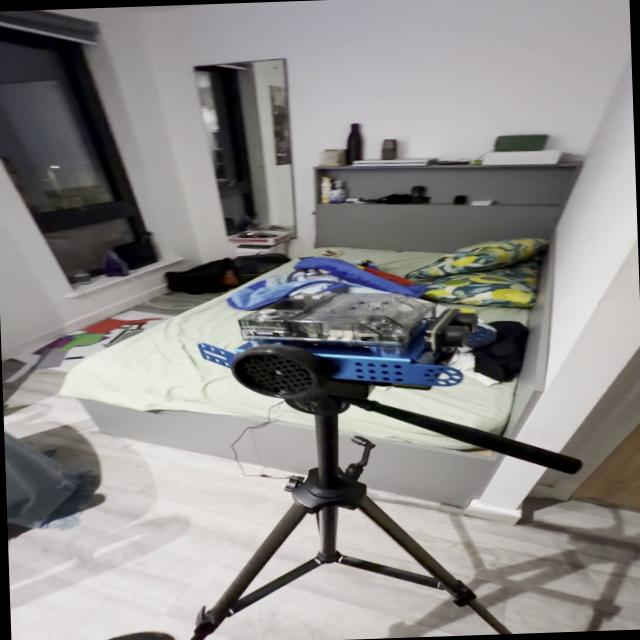mbot-detection: (190, 280, 502, 407)
